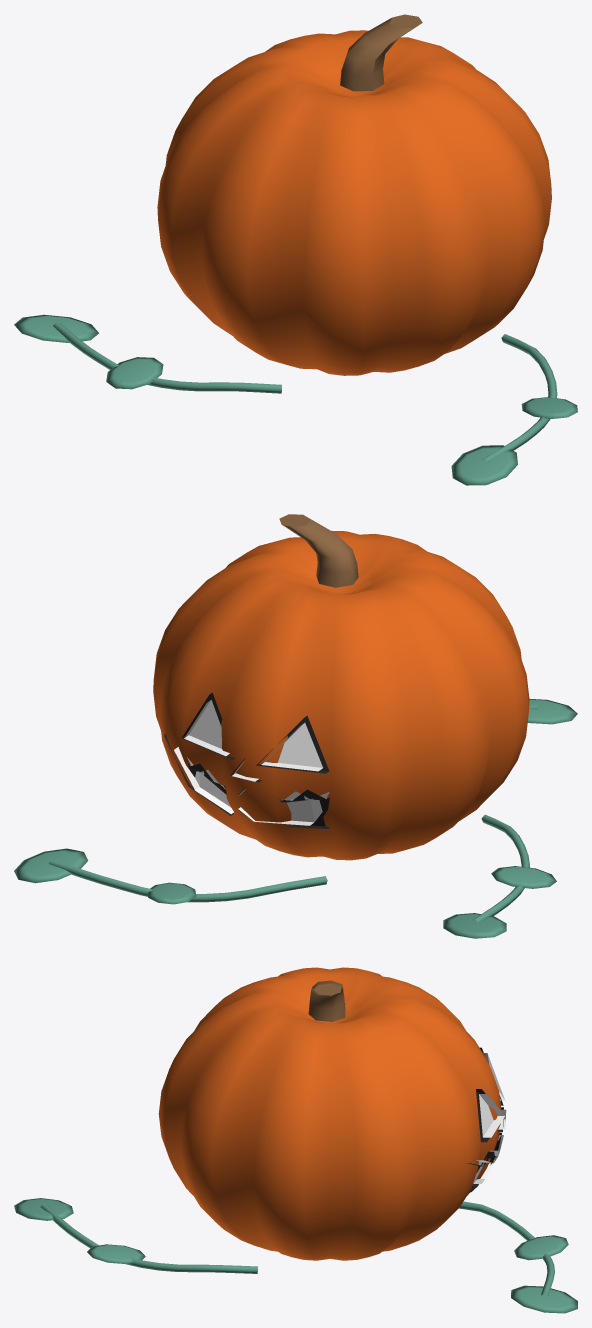
Rendered from COLOSSAL_PUMPKIN.glb.
3 renders of one model, top to bottom at view 1: azimuth 30°, elevation 25°; view 2: azimuth 150°, elevation 25°; view 3: azimuth 270°, elevation 25°, orthographic. The views are drawn at different scales.
Parts seen in each view (by area): view 1: plastic_0, copper_3, wood_2; view 2: plastic_0, copper_3, lamps_4, wood_2, tread_1; view 3: plastic_0, copper_3, wood_2, lamps_4, tread_1.
Boxes of the visible parts, x1,y1,x2,y2 form: plastic_0: [157, 30, 551, 375]; copper_3: [14, 314, 577, 485]; wood_2: [340, 14, 422, 91]; plastic_0: [153, 530, 529, 860]; copper_3: [14, 698, 577, 938]; lamps_4: [174, 699, 329, 825]; wood_2: [279, 514, 358, 587]; tread_1: [164, 692, 329, 828]; plastic_0: [158, 967, 501, 1260]; copper_3: [14, 1198, 577, 1313]; wood_2: [308, 980, 345, 1021]; lamps_4: [473, 1053, 506, 1183]; tread_1: [466, 1047, 503, 1192].
Bounding box in the file's own units: 21.16 × 13.51 × 26.31.
